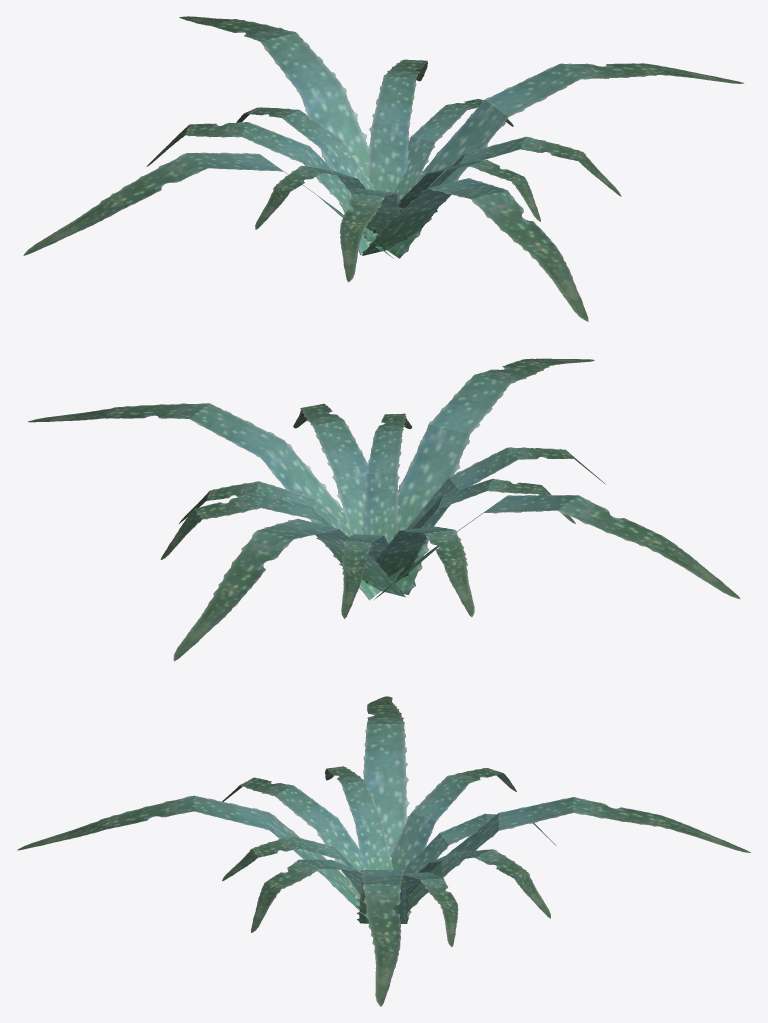
The model's file is AloeVera.fbx.
3 views of the same model, one above another, from view 1: azimuth 30°, elevation 25°; view 2: azimuth 150°, elevation 25°; view 3: azimuth 270°, elevation 25° (orthographic). The views are drawn at different scales.
Visible parts, largest first — view 1: AloeLeave; view 2: AloeLeave; view 3: AloeLeave.
Boxes of the visible parts, left/top/right/bottom form: AloeLeave: left=23, top=16, right=744, bottom=321; AloeLeave: left=27, top=358, right=740, bottom=661; AloeLeave: left=17, top=696, right=750, bottom=1006.
Bounding box in the file's own units: 230 × 41.46 × 230.
